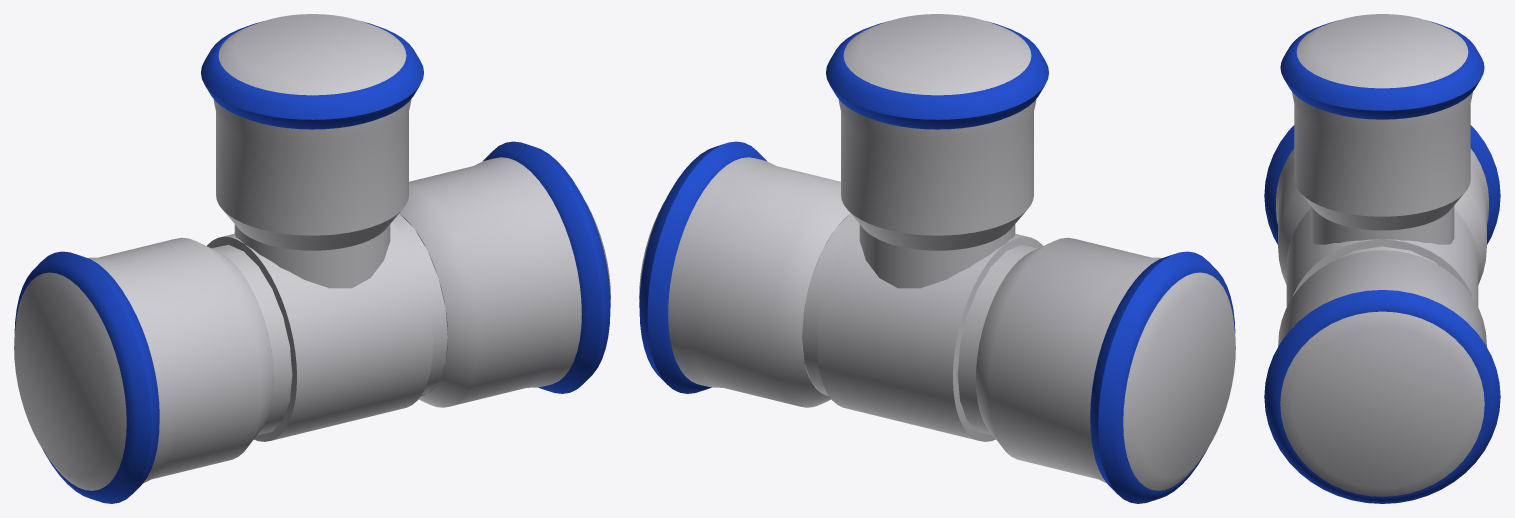
The model's file is fitting_tee_28x22.glb.
3 views of the same model, side by side, from view 1: azimuth 30°, elevation 25°; view 2: azimuth 150°, elevation 25°; view 3: azimuth 270°, elevation 25° (orthographic). The views are drawn at different scales.
Parts seen in each view (by area): view 1: раструб.001, раструб.002, раструб, узел, кольцо пресс.001, кольцо пресс.002, кольцо пресс, корпус, корпус.001; view 2: раструб.001, раструб.002, раструб, узел, кольцо пресс.001, кольцо пресс.002, кольцо пресс, корпус, корпус.001; view 3: раструб, раструб.002, кольцо пресс, кольцо пресс.002, узел, раструб.001, кольцо пресс.001, корпус.001, корпус.
Part boxes in pixels (x1,y1,x2,y2): раструб.001: [14, 237, 274, 490]; раструб.002: [213, 14, 411, 250]; раструб: [399, 157, 610, 407]; узел: [207, 222, 432, 441]; кольцо пресс.001: [14, 251, 159, 503]; кольцо пресс.002: [201, 21, 423, 129]; кольцо пресс: [482, 141, 610, 393]; корпус: [212, 213, 447, 435]; корпус.001: [234, 224, 390, 288]; раструб.001: [975, 237, 1235, 490]; раструб.002: [838, 14, 1036, 250]; раструб: [639, 157, 850, 407]; узел: [817, 222, 1042, 441]; кольцо пресс.001: [1090, 251, 1235, 503]; кольцо пресс.002: [826, 21, 1048, 129]; кольцо пресс: [639, 141, 767, 393]; корпус: [802, 213, 1037, 435]; корпус.001: [859, 224, 1015, 288]; раструб: [1278, 250, 1486, 496]; раструб.002: [1292, 14, 1472, 230]; кольцо пресс: [1264, 290, 1500, 503]; кольцо пресс.002: [1280, 20, 1484, 119]; узел: [1286, 209, 1478, 306]; раструб.001: [1276, 148, 1488, 284]; кольцо пресс.001: [1264, 125, 1500, 244]; корпус.001: [1310, 205, 1454, 244]; корпус: [1327, 246, 1437, 264].
Size of the model in its own units: 0.092 by 0.0691 by 0.0412.
